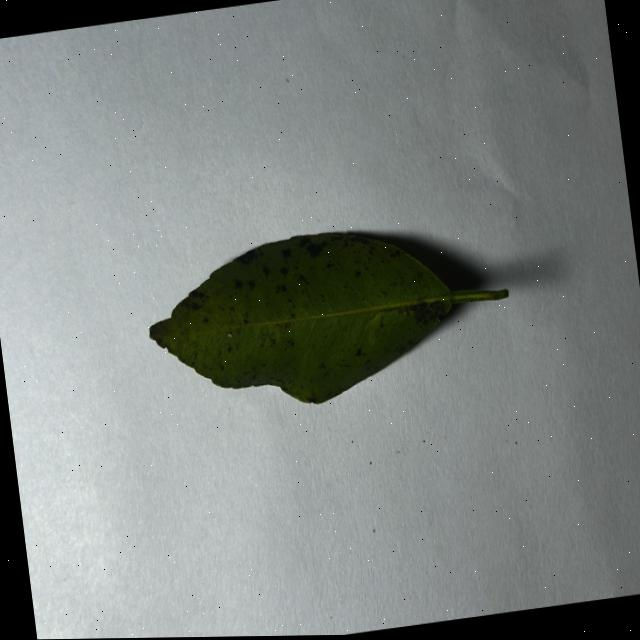sooty_mold: (149, 232, 507, 402)
